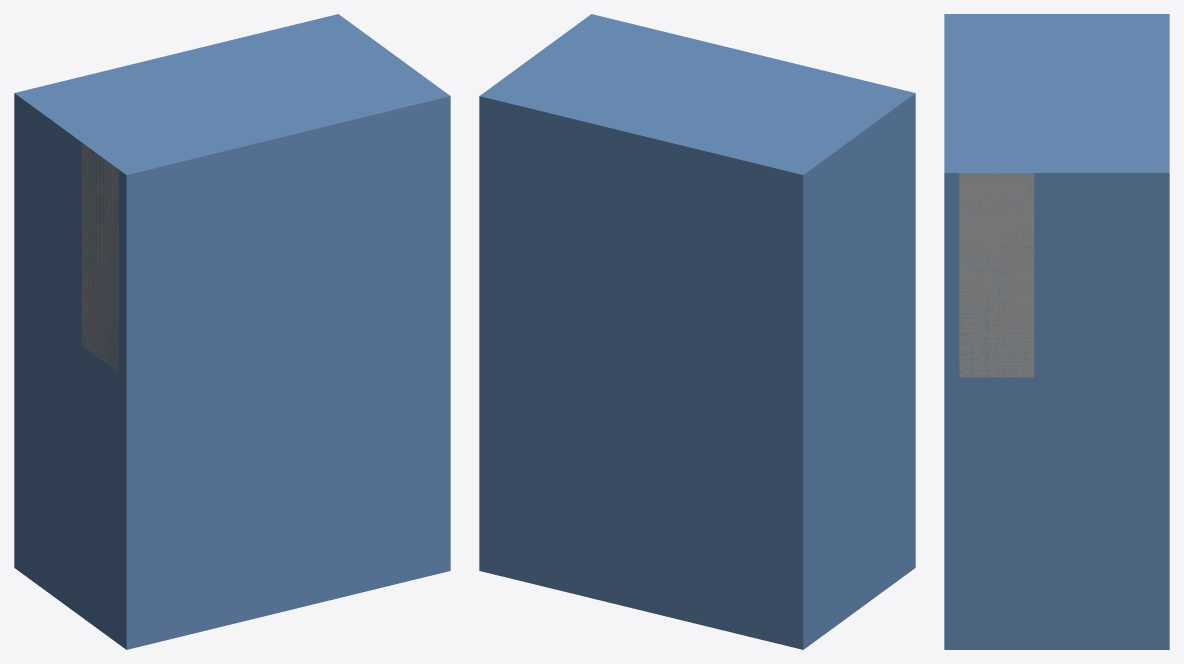
Rendered from backpack_mission.glb.
3 renders of one model, left to right at view 1: azimuth 30°, elevation 25°; view 2: azimuth 150°, elevation 25°; view 3: azimuth 270°, elevation 25°, orthographic.
Parts seen in each view (by area): view 1: pack, flap; view 2: pack; view 3: pack, flap.
Part boxes in pixels (box(x1,y1,x2,y2)): pack: box(14, 14, 450, 649); flap: box(81, 143, 118, 372); pack: box(479, 14, 915, 649); pack: box(944, 14, 1169, 649); flap: box(959, 173, 1034, 377).
Size of the model in its own units: 0.5 by 0.7002 by 0.2998.
